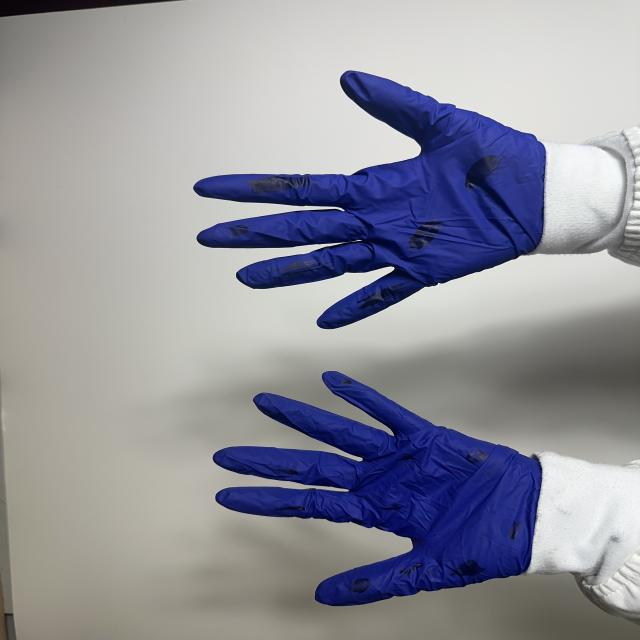gloves_contaminated: (195, 72, 550, 328), (214, 372, 541, 605)
